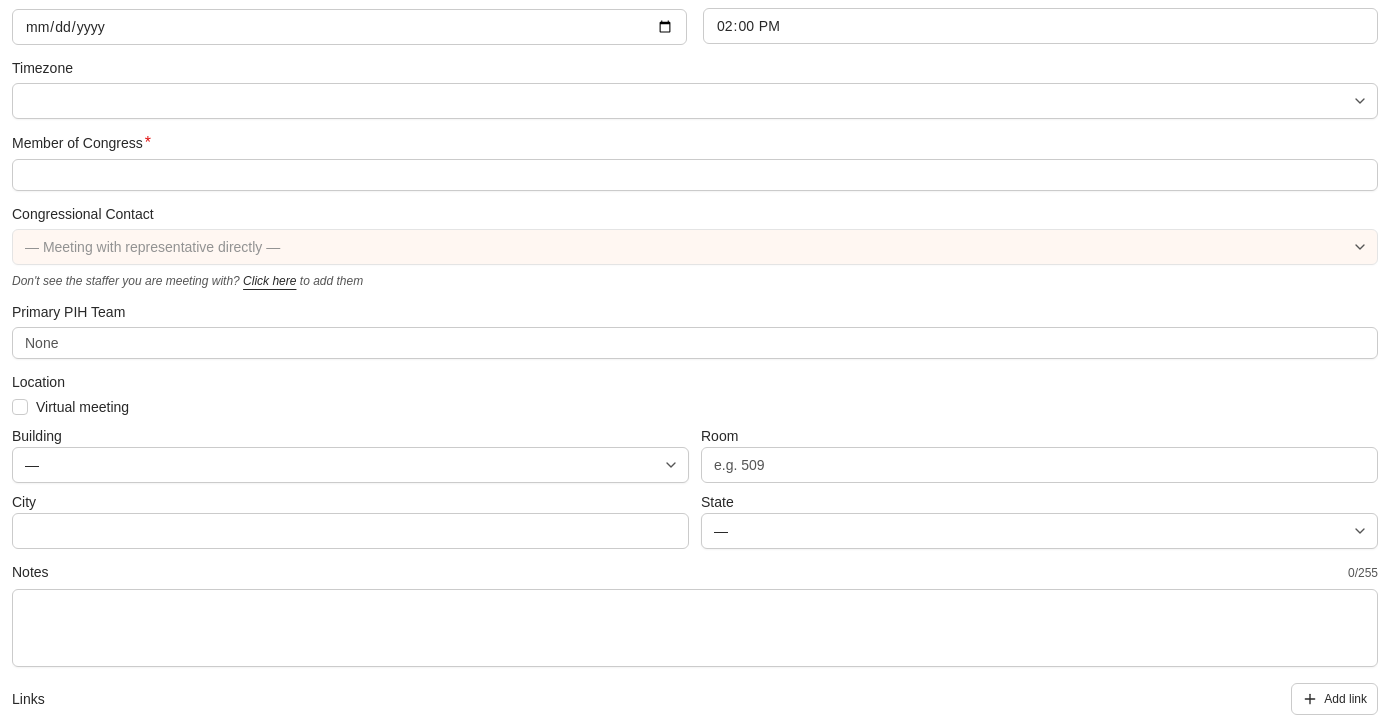
Test: CreateMeetingForm — links › can add a link row
The width and height of the screenshot is (1390, 718).
Click the button "Add link" at (1335, 699), box x1=1291 y1=683 x2=1378 y2=715
(page scrolled)
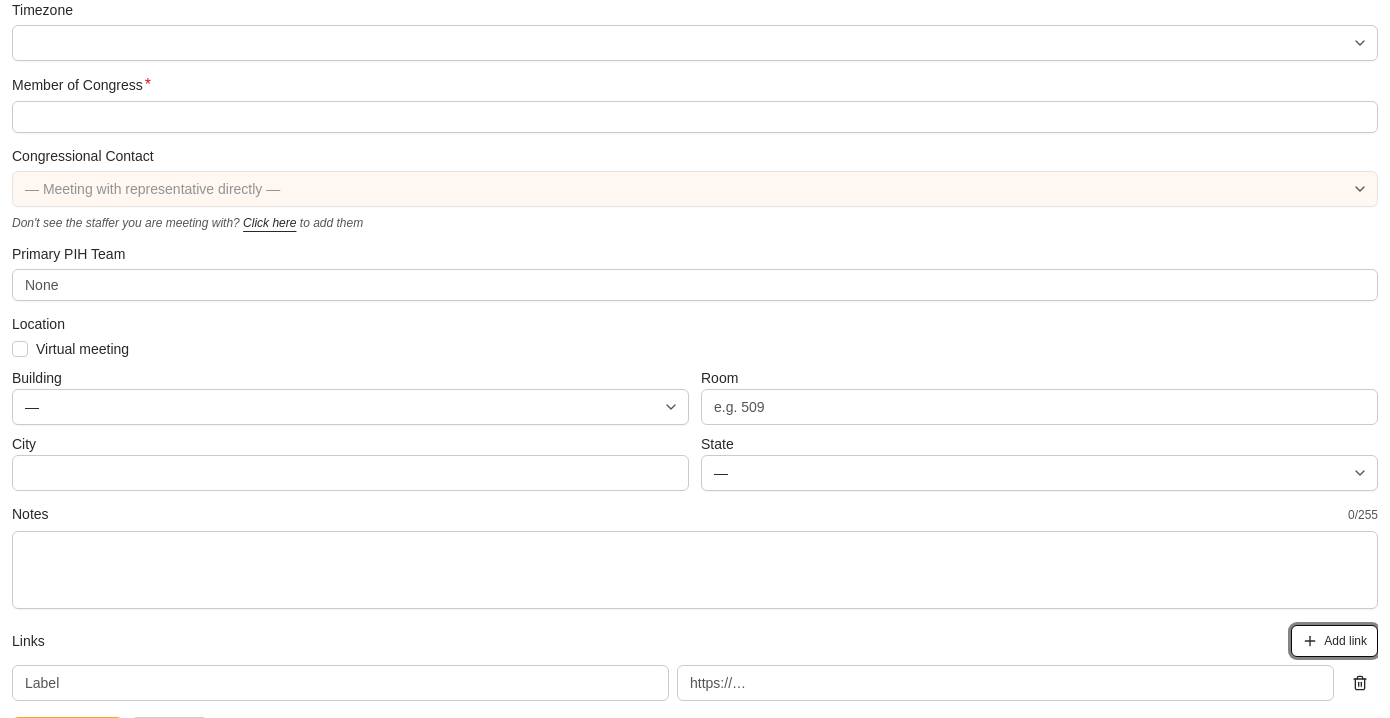
Now the field named "Link 1 label" is shown, box x1=12 y1=665 x2=669 y2=701
Now the field named "Link 1 URL" is shown, box x1=677 y1=665 x2=1334 y2=701
